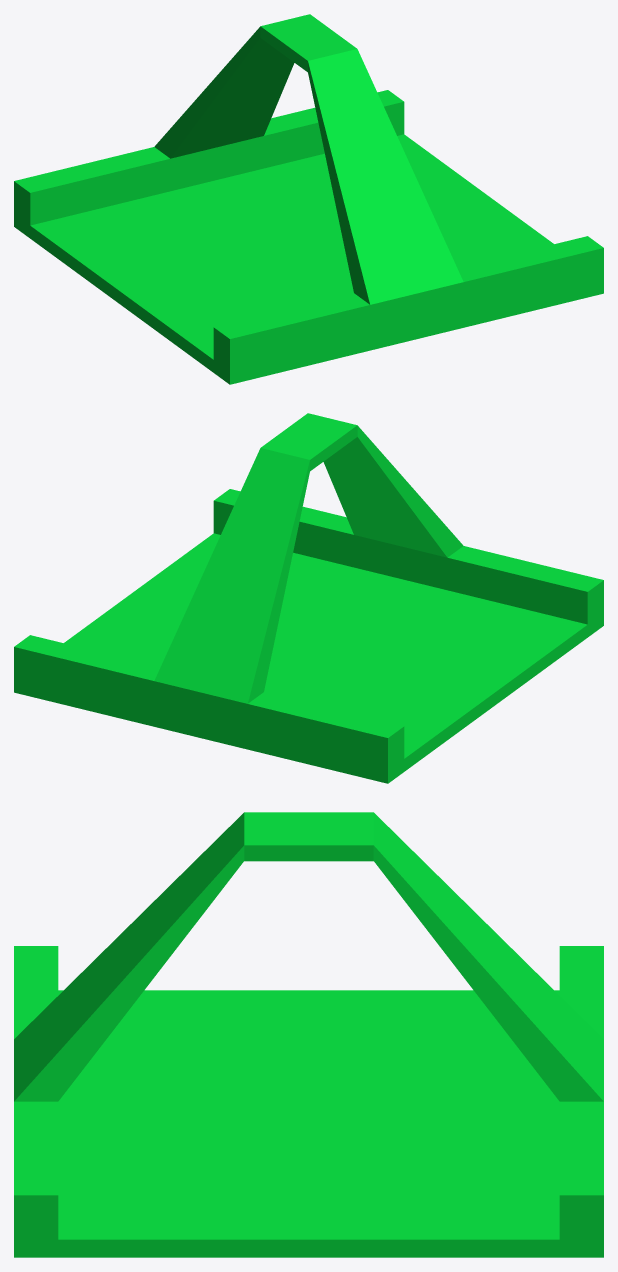
File: finish.fbx
3 renders of one model, top to bottom at view 1: azimuth 30°, elevation 25°; view 2: azimuth 150°, elevation 25°; view 3: azimuth 270°, elevation 25°, orthographic. The views are drawn at different scales.
Visible parts, largest first — view 1: Cube; view 2: Cube; view 3: Cube.
Part boxes in pixels (x1,y1,x2,y2): Cube: (14,14,603,384); Cube: (14,413,603,783); Cube: (14,812,603,1257).
Bounding box in the file's own units: 3000 × 1706 × 3000.
